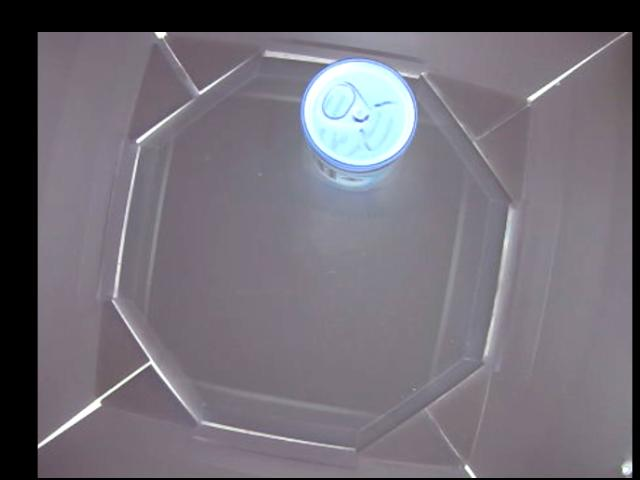Bottle: (299, 58, 418, 188)
